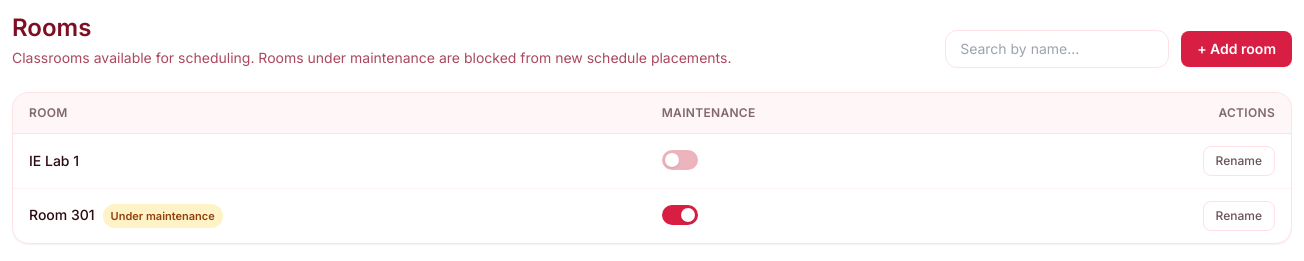
Test: RoomsPage — maintenance toggle › rolls the switch back and toasts when the write fails
Click the switch named "Mark IE Lab 1 under maintenance" at (680, 160), box [662,150,698,170]
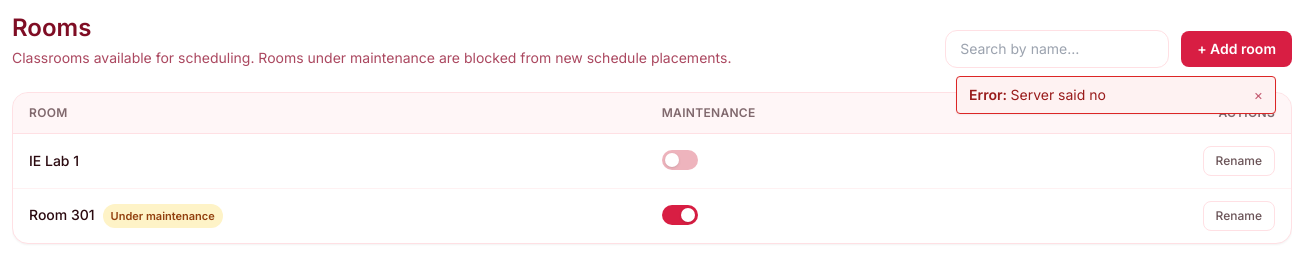
Expected: the text "Server said no" is shown, [1010,86,1106,103]
